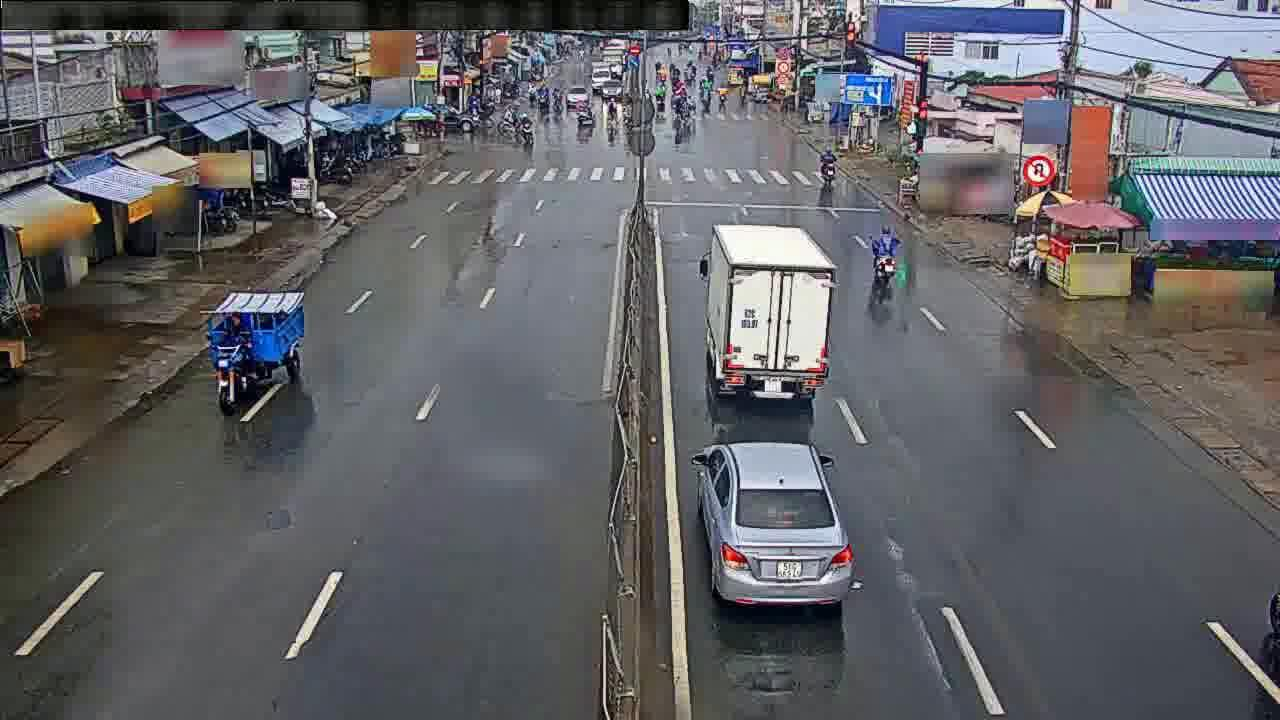8: (705, 218, 821, 397)
container: (696, 433, 874, 601)
motorbike: (867, 215, 911, 283), (814, 144, 848, 191), (516, 113, 536, 144)
